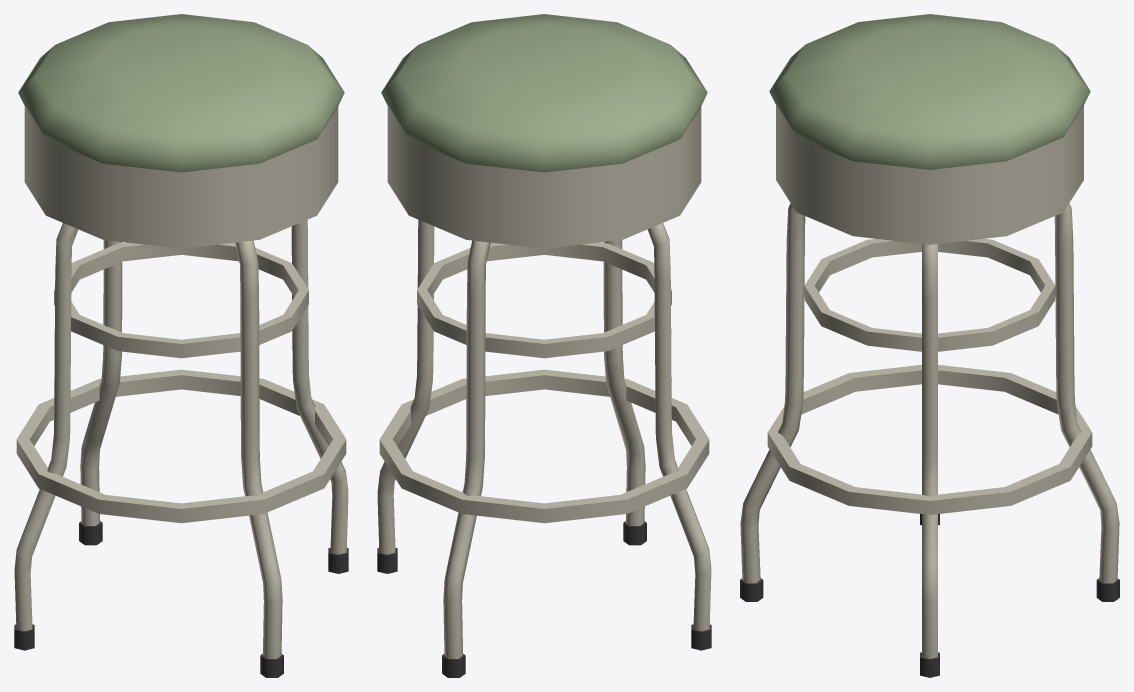
File: Chair_04.fbx
The picture shows the model from 3 angles, left to right: view 1: azimuth 30°, elevation 25°; view 2: azimuth 150°, elevation 25°; view 3: azimuth 270°, elevation 25°; orthographic projection.
Parts seen in each view (by area): view 1: Chair_04; view 2: Chair_04; view 3: Chair_04.
Part boxes in pixels (x1,y1,x2,y2): Chair_04: (14,14,348,677); Chair_04: (377,14,711,677); Chair_04: (740,14,1119,677).
Size of the model in its own units: 0.4793 by 0.7495 by 0.4793.
